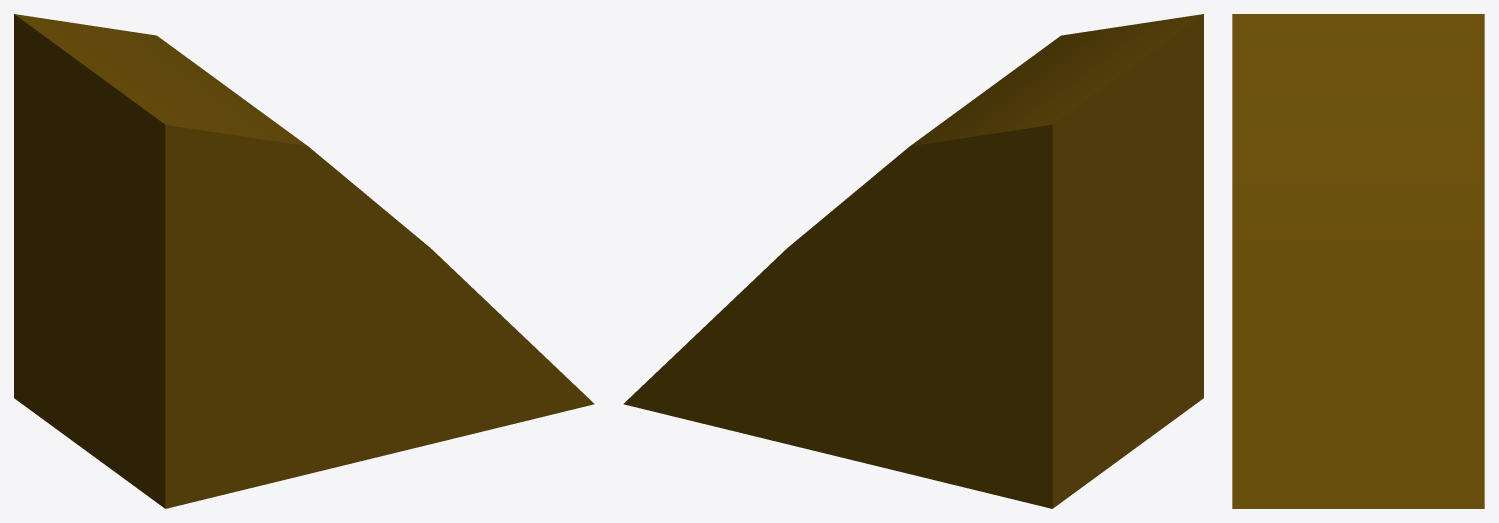
File: Hill.fbx
The picture shows the model from 3 angles, left to right: view 1: azimuth 30°, elevation 25°; view 2: azimuth 150°, elevation 25°; view 3: azimuth 270°, elevation 25°; orthographic projection. The views are drawn at different scales.
Parts seen in each view (by area): view 1: pCube30; view 2: pCube30; view 3: pCube30.
Boxes of the visible parts, bbox=[...] form: pCube30: bbox=[14, 14, 594, 508]; pCube30: bbox=[623, 14, 1203, 508]; pCube30: bbox=[1232, 14, 1484, 508].
Bounding box in the file's own units: 23.41 × 20.01 × 14.29.
